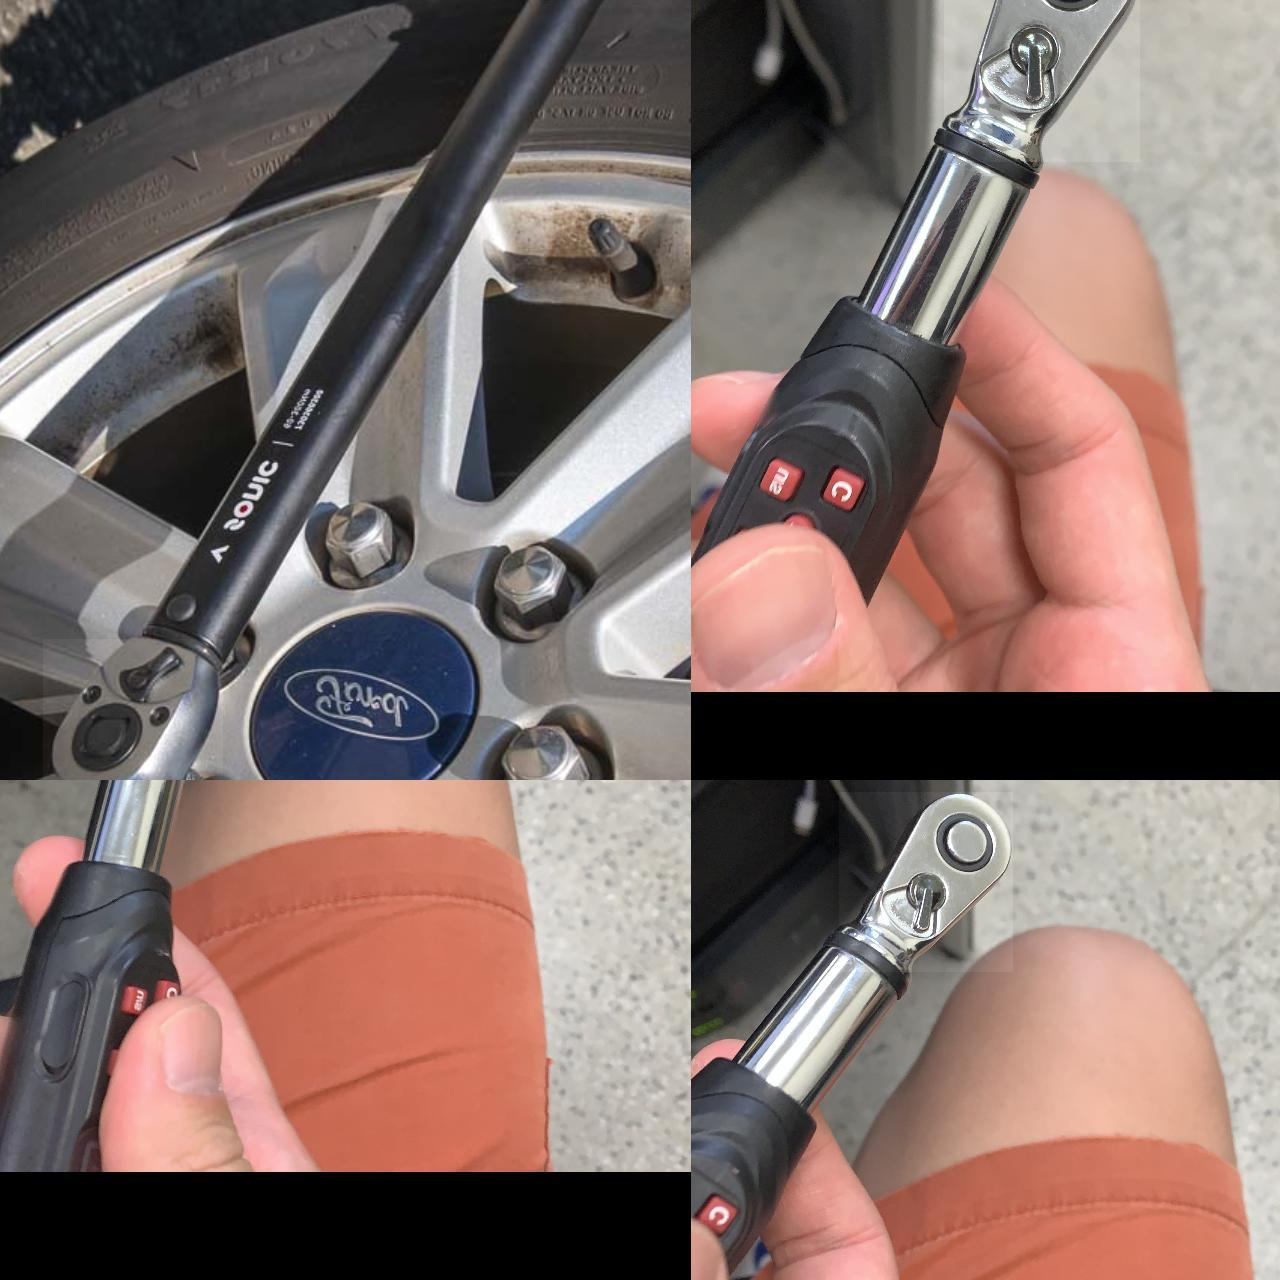Tool: (942, 0, 1139, 162), (838, 792, 1012, 972), (42, 639, 222, 779)
